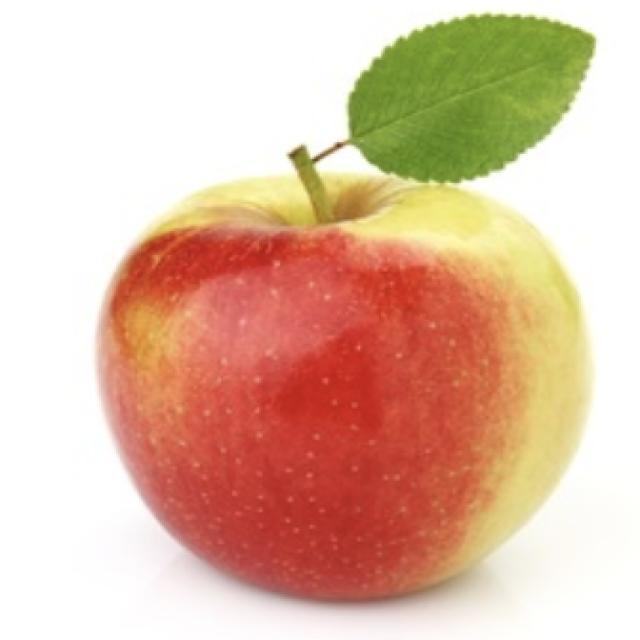Apple: (95, 147, 594, 603)
